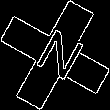N_SW: (25, 23, 85, 87)
